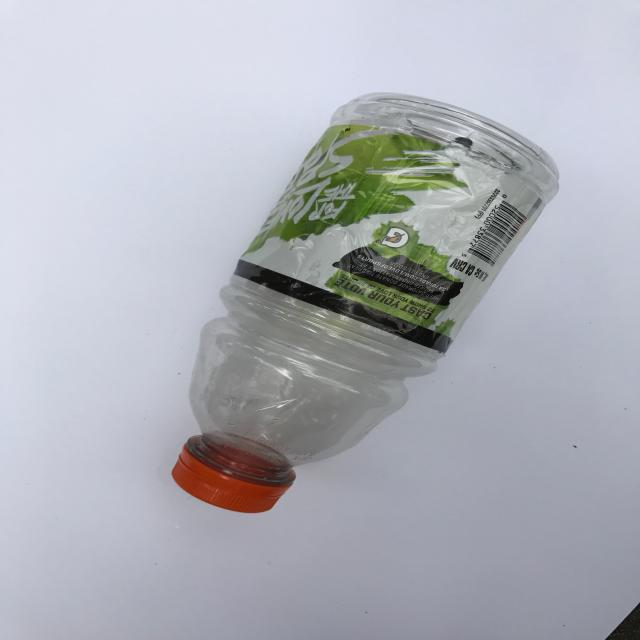plastic: (187, 90, 560, 468)
